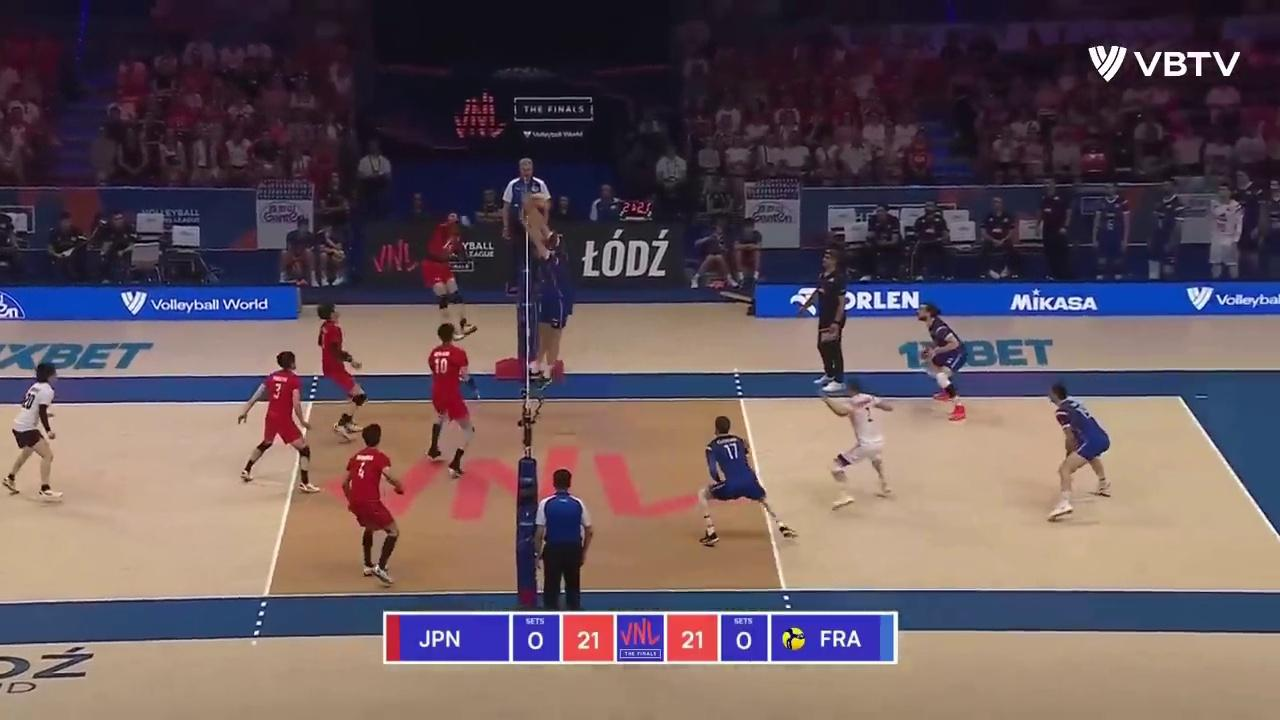ball: (532, 190, 547, 210)
